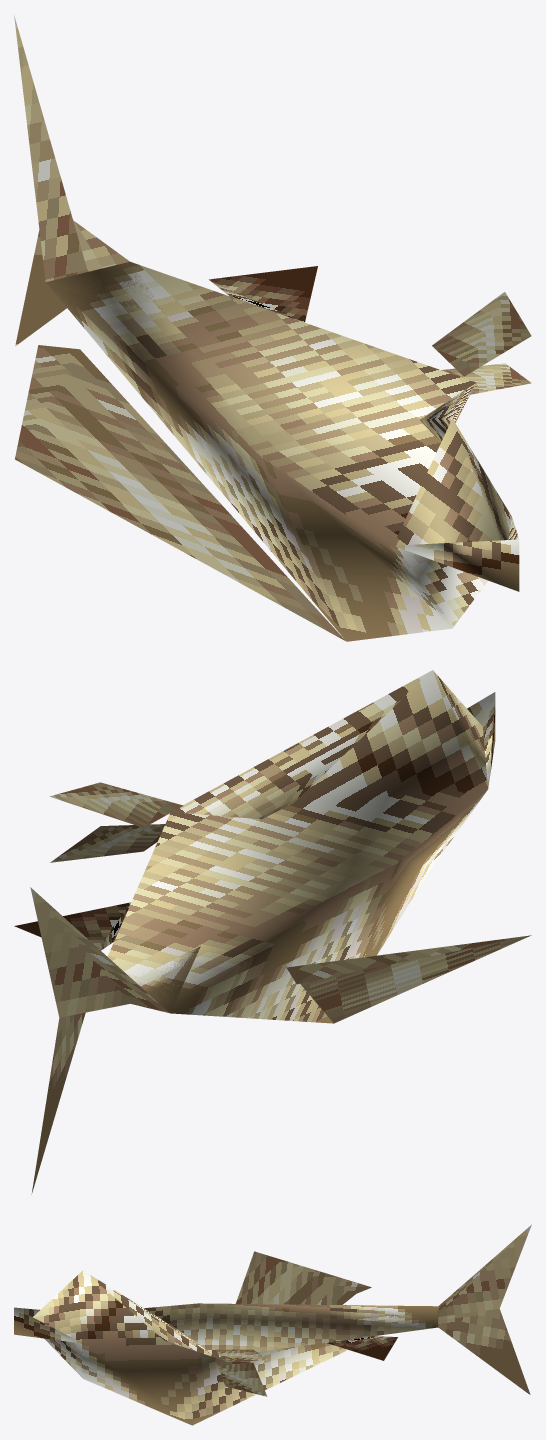
3 views of the same model, one above another, from view 1: azimuth 30°, elevation 25°; view 2: azimuth 150°, elevation 25°; view 3: azimuth 270°, elevation 25° (orthographic). The views are drawn at different scales.
Parts seen in each view (by area): view 1: 4790fish00; view 2: 4790fish00; view 3: 4790fish00.
Boxes of the visible parts, x1,y1,x2,y2 form: 4790fish00: [14, 15, 531, 641]; 4790fish00: [14, 670, 531, 1194]; 4790fish00: [14, 1224, 531, 1425].
Size of the model in its own units: 0.5803 by 0.4273 by 1.
1 material, 1 textured.
